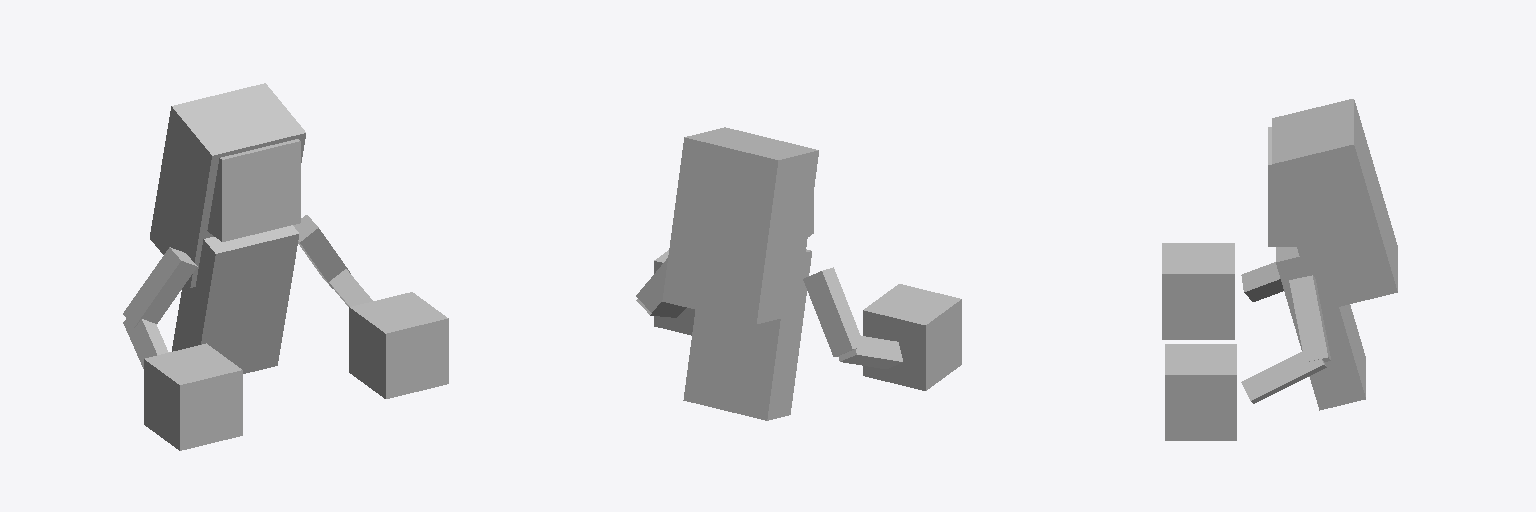
File: banshee.obj
3 views of the same model, side by side, from view 1: azimuth 30°, elevation 25°; view 2: azimuth 150°, elevation 25°; view 3: azimuth 270°, elevation 25° (orthographic).
Parts seen in each view (by area): view 1: Hair02, Body, EyeLeft, EyeRight, Head, HandRight, HandLeft; view 2: Hair02, Body, EyeRight, HandRight, HandLeft, EyeLeft; view 3: Hair02, EyeRight, EyeLeft, Body, HandLeft, Head, HandRight.
Boxes of the visible parts, x1,y1,x2,y2 form: Hair02: [150, 83, 305, 287]; Body: [172, 225, 298, 373]; EyeLeft: [349, 292, 448, 398]; EyeRight: [144, 343, 242, 450]; Head: [207, 139, 300, 241]; HandRight: [123, 247, 197, 368]; HandLeft: [293, 215, 372, 306]; Hair02: [662, 127, 818, 324]; Body: [683, 249, 811, 420]; EyeRight: [863, 284, 961, 390]; HandRight: [803, 267, 902, 368]; HandLeft: [636, 258, 686, 317]; EyeLeft: [654, 250, 694, 335]; Hair02: [1272, 99, 1397, 310]; EyeRight: [1162, 243, 1234, 339]; EyeLeft: [1165, 344, 1236, 440]; Body: [1276, 247, 1365, 410]; HandLeft: [1241, 275, 1330, 403]; Head: [1268, 127, 1296, 246]; HandRight: [1241, 262, 1283, 301].
Size of the model in its own units: 1.61 by 1.53 by 1.22.